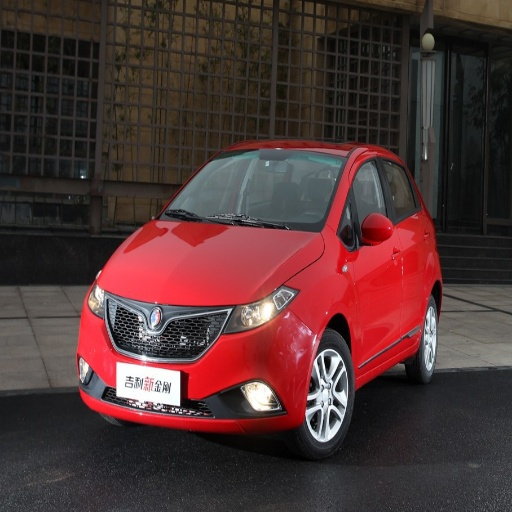front_bumper: (78, 293, 317, 437)
front_glass: (158, 148, 346, 231)
front_left_door: (346, 152, 401, 368)
